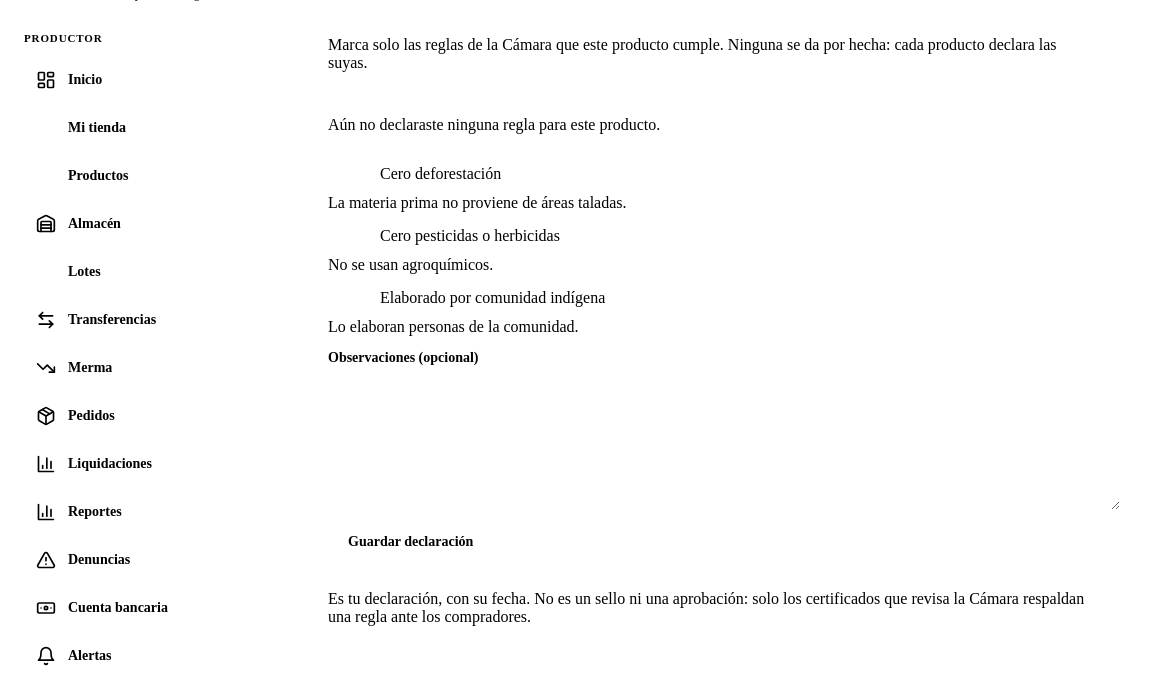
Test: CCPIP-34 Declarar el cumplimiento de las reglas de origen y sostenibilidad › si el servidor la rechaza, lo dice
(page scrolled)
Click the button "Guardar declaración": point(411, 542) [328,522,493,562]
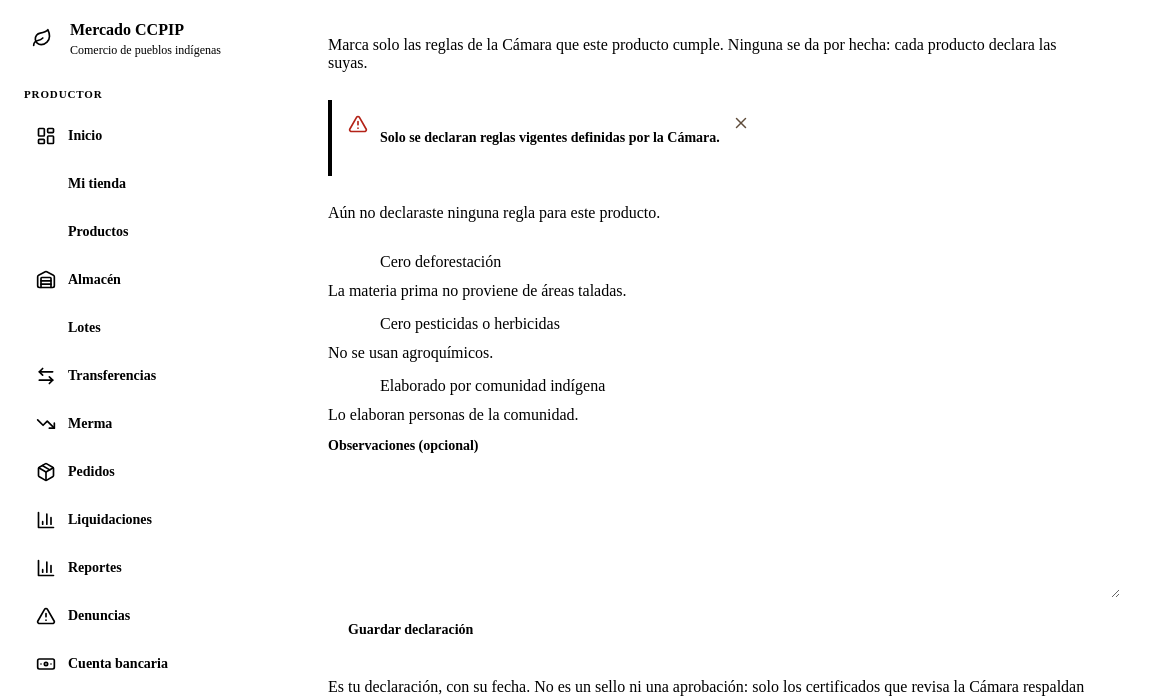
Expected: the text "Solo se declaran reglas vigentes definidas por la Cámara." is shown, [380,128,720,148]
